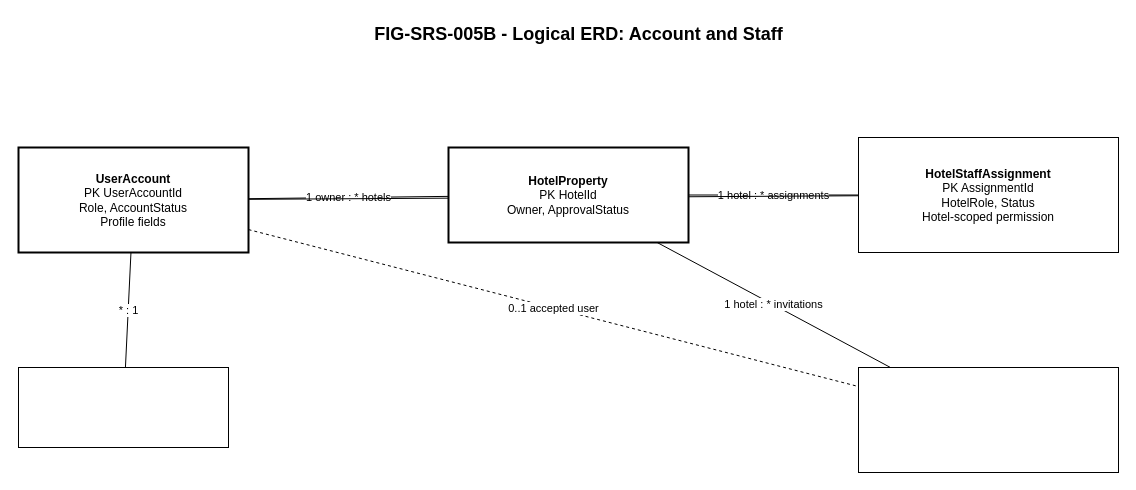
The diagram is 1136 pixels wide and 490 high, and some of its shapes have lost their labels. The shapes that lost their labels are listed below. From the top down, each one's centre as x and y in pixels, then its label:
At (123,407): "UserRole PK RoleId RoleCode".
At (988,419): "StaffInvitation PK InvitationId InviteStatus Invited role / recipient".
